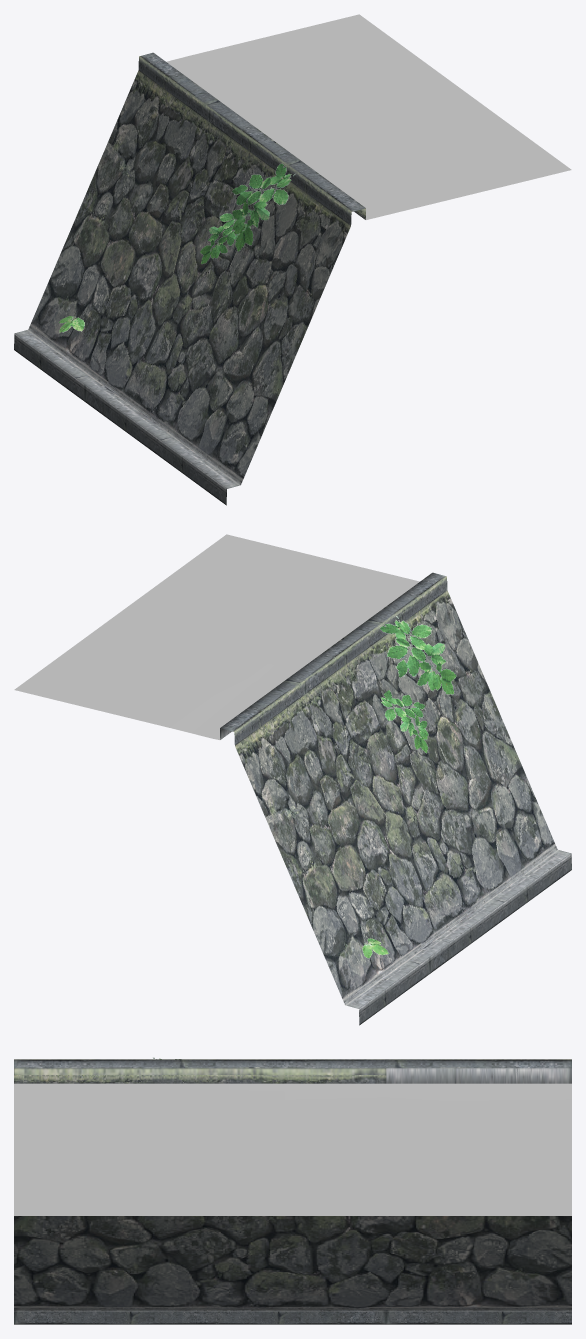
File: WALL Slanted B.fbx
3 renders of one model, top to bottom at view 1: azimuth 30°, elevation 25°; view 2: azimuth 150°, elevation 25°; view 3: azimuth 270°, elevation 25°, orthographic. The views are drawn at different scales.
Visible parts, largest first — view 1: WALL Slanted.B; view 2: WALL Slanted.B; view 3: WALL Slanted.B.
Boxes of the visible parts, <box> form: WALL Slanted.B: <box>14,14,571,505</box>; WALL Slanted.B: <box>14,534,571,1025</box>; WALL Slanted.B: <box>14,1057,571,1324</box>.
Bounding box in the file's own units: 422 × 310 × 450.
